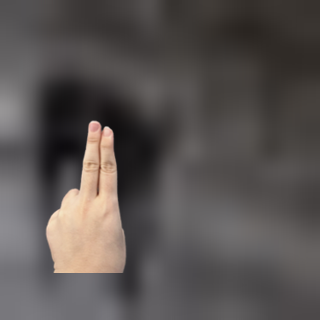DHAVE: (36, 113, 133, 271)
